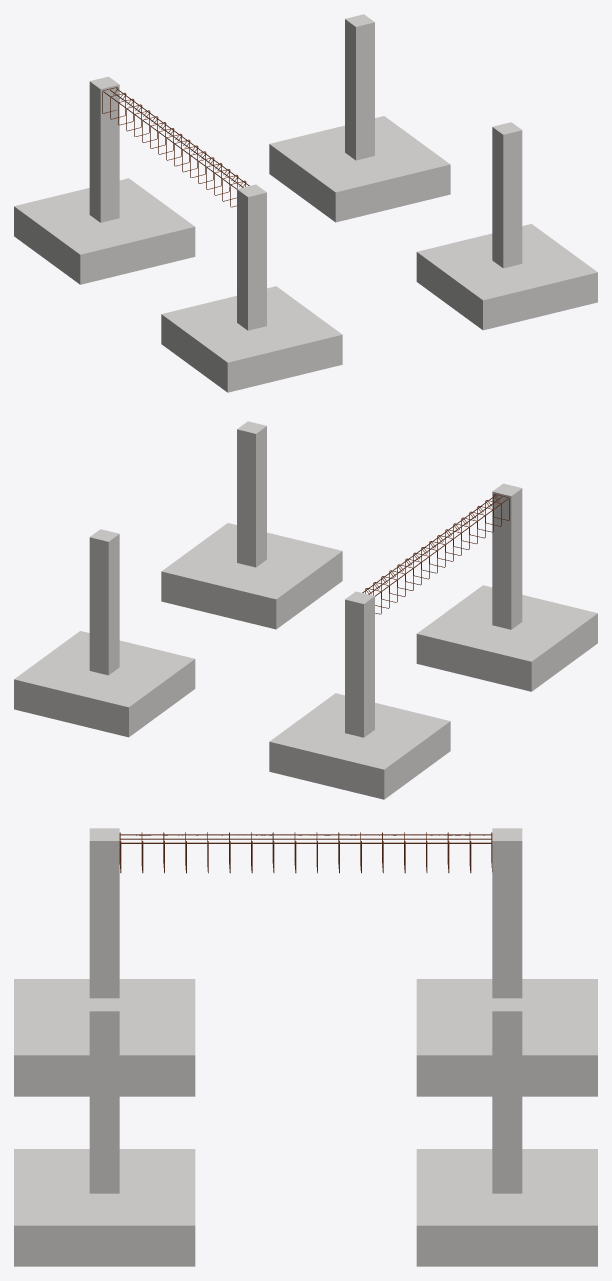
3 views of the same model, one above another, from view 1: azimuth 30°, elevation 25°; view 2: azimuth 150°, elevation 25°; view 3: azimuth 270°, elevation 25° (orthographic). The views are drawn at different scales.
Parts seen in each view (by area): view 1: Footing-Rectangular 1800 x 1800 x 450mm [329140]001, Footing-Rectangular 1800 x 1800 x 450mm [329731]001, Footing-Rectangular 1800 x 1800 x 450mm [329237]001, Footing-Rectangular 1800 x 1800 x 450mm [329630]001, Concrete Square 300 x 300mm [368379]001, Concrete Square 300 x 300mm [368271]001, Concrete Square 300 x 300mm [368296]001, Concrete Square 300 x 300mm [368368]001, Rebar Bar H8 : Shape 52 [387159]_[319274]001; view 2: Footing-Rectangular 1800 x 1800 x 450mm [329630]001, Footing-Rectangular 1800 x 1800 x 450mm [329237]001, Footing-Rectangular 1800 x 1800 x 450mm [329731]001, Footing-Rectangular 1800 x 1800 x 450mm [329140]001, Concrete Square 300 x 300mm [368296]001, Concrete Square 300 x 300mm [368368]001, Concrete Square 300 x 300mm [368271]001, Concrete Square 300 x 300mm [368379]001, Rebar Bar H8 : Shape 52 [387159]_[319274]001; view 3: Footing-Rectangular 1800 x 1800 x 450mm [329237]001, Footing-Rectangular 1800 x 1800 x 450mm [329731]001, Footing-Rectangular 1800 x 1800 x 450mm [329140]001, Footing-Rectangular 1800 x 1800 x 450mm [329630]001, Concrete Square 300 x 300mm [368296]001, Concrete Square 300 x 300mm [368379]001, Concrete Square 300 x 300mm [368271]001, Concrete Square 300 x 300mm [368368]001, Rebar Bar H8 : Shape 52 [387159]_[319274]001, Rebar Bar H12 : Shape Rebar Shape 2 [387494]_[319274]001, Rebar Bar H12 : Shape Rebar Shape 2 [387427]_[319274]001, Rebar Bar H12 : Shape Rebar Shape 2 [387270]_[319274]001.
Part boxes in pixels (bbox=[...]): Footing-Rectangular 1800 x 1800 x 450mm [329140]001: bbox=[14, 178, 195, 284]; Footing-Rectangular 1800 x 1800 x 450mm [329731]001: bbox=[416, 224, 597, 330]; Footing-Rectangular 1800 x 1800 x 450mm [329237]001: bbox=[269, 116, 450, 222]; Footing-Rectangular 1800 x 1800 x 450mm [329630]001: bbox=[161, 286, 342, 392]; Concrete Square 300 x 300mm [368379]001: bbox=[492, 122, 522, 268]; Concrete Square 300 x 300mm [368271]001: bbox=[89, 76, 119, 222]; Concrete Square 300 x 300mm [368296]001: bbox=[345, 14, 374, 160]; Concrete Square 300 x 300mm [368368]001: bbox=[237, 184, 266, 330]; Rebar Bar H8 : Shape 52 [387159]_[319274]001: bbox=[102, 87, 246, 207]; Footing-Rectangular 1800 x 1800 x 450mm [329630]001: bbox=[416, 585, 597, 691]; Footing-Rectangular 1800 x 1800 x 450mm [329237]001: bbox=[14, 631, 195, 737]; Footing-Rectangular 1800 x 1800 x 450mm [329731]001: bbox=[161, 523, 342, 629]; Footing-Rectangular 1800 x 1800 x 450mm [329140]001: bbox=[269, 693, 450, 799]; Concrete Square 300 x 300mm [368296]001: bbox=[89, 529, 119, 675]; Concrete Square 300 x 300mm [368368]001: bbox=[492, 483, 522, 629]; Concrete Square 300 x 300mm [368271]001: bbox=[345, 591, 374, 737]; Concrete Square 300 x 300mm [368379]001: bbox=[237, 421, 266, 567]; Rebar Bar H8 : Shape 52 [387159]_[319274]001: bbox=[365, 494, 509, 614]; Footing-Rectangular 1800 x 1800 x 450mm [329237]001: bbox=[416, 1149, 597, 1266]; Footing-Rectangular 1800 x 1800 x 450mm [329731]001: bbox=[14, 1149, 195, 1266]; Footing-Rectangular 1800 x 1800 x 450mm [329140]001: bbox=[416, 979, 597, 1096]; Footing-Rectangular 1800 x 1800 x 450mm [329630]001: bbox=[14, 979, 195, 1096]; Concrete Square 300 x 300mm [368296]001: bbox=[492, 998, 522, 1193]; Concrete Square 300 x 300mm [368379]001: bbox=[89, 998, 119, 1193]; Concrete Square 300 x 300mm [368271]001: bbox=[492, 828, 522, 998]; Concrete Square 300 x 300mm [368368]001: bbox=[89, 828, 119, 998]; Rebar Bar H8 : Shape 52 [387159]_[319274]001: bbox=[119, 832, 492, 873]; Rebar Bar H12 : Shape Rebar Shape 2 [387494]_[319274]001: bbox=[120, 834, 491, 835]; Rebar Bar H12 : Shape Rebar Shape 2 [387427]_[319274]001: bbox=[120, 838, 491, 839]; Rebar Bar H12 : Shape Rebar Shape 2 [387270]_[319274]001: bbox=[121, 842, 491, 843].
Size of the model in its own units: 5.8 by 2.45 by 5.8.
Materials: 2 (1 with a texture image).
